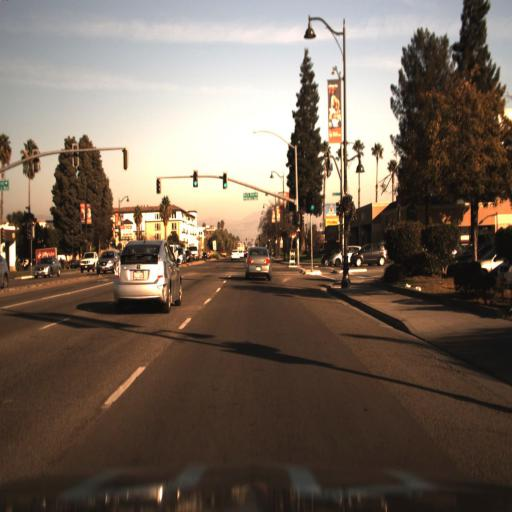car: (110, 236, 185, 318), (242, 242, 272, 282), (350, 243, 388, 270), (28, 251, 65, 278), (327, 243, 363, 268), (96, 246, 124, 274), (319, 241, 342, 269), (78, 249, 96, 274), (227, 245, 242, 265)
trafficLight: (154, 177, 162, 196)
trafficLight-Green: (307, 187, 318, 216), (190, 167, 199, 186), (191, 170, 198, 191), (221, 173, 228, 193)
